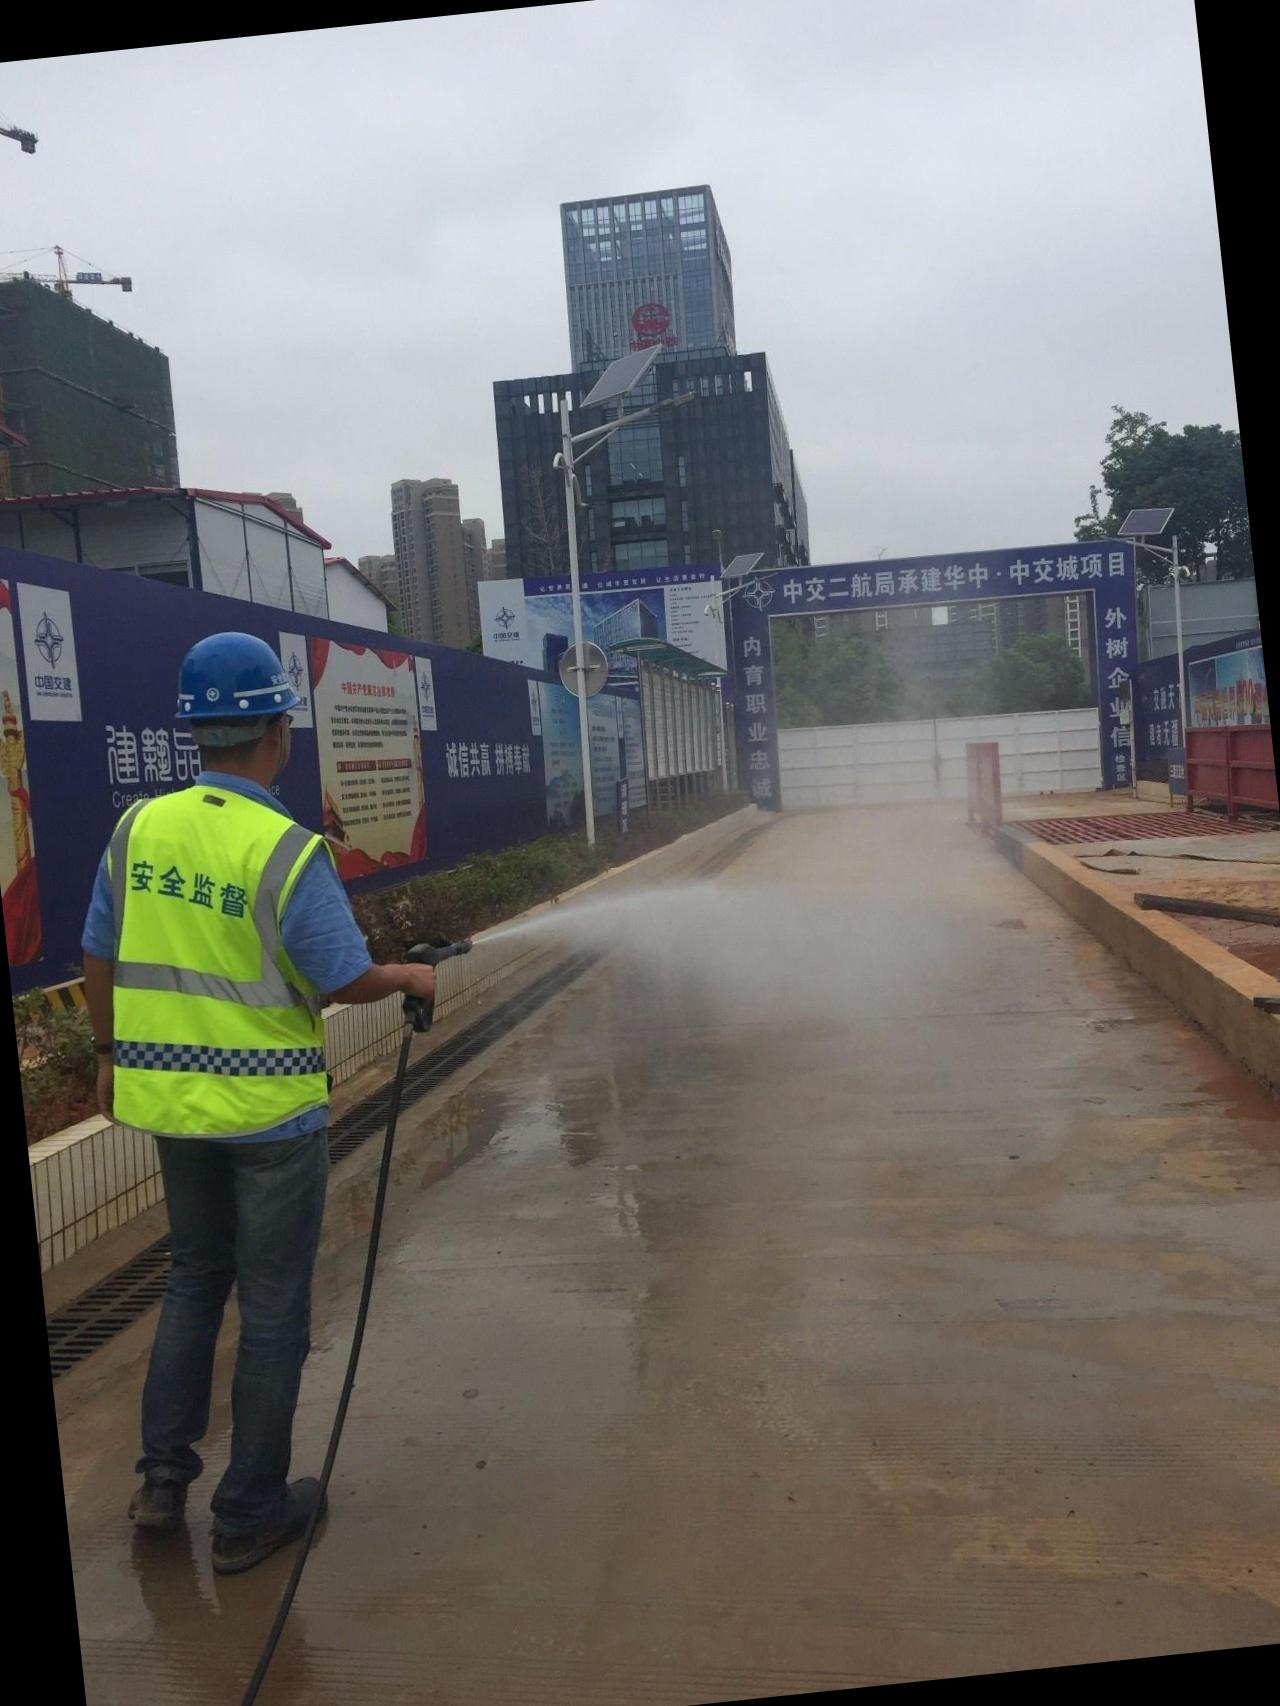Vest: (82, 756, 356, 1170)
